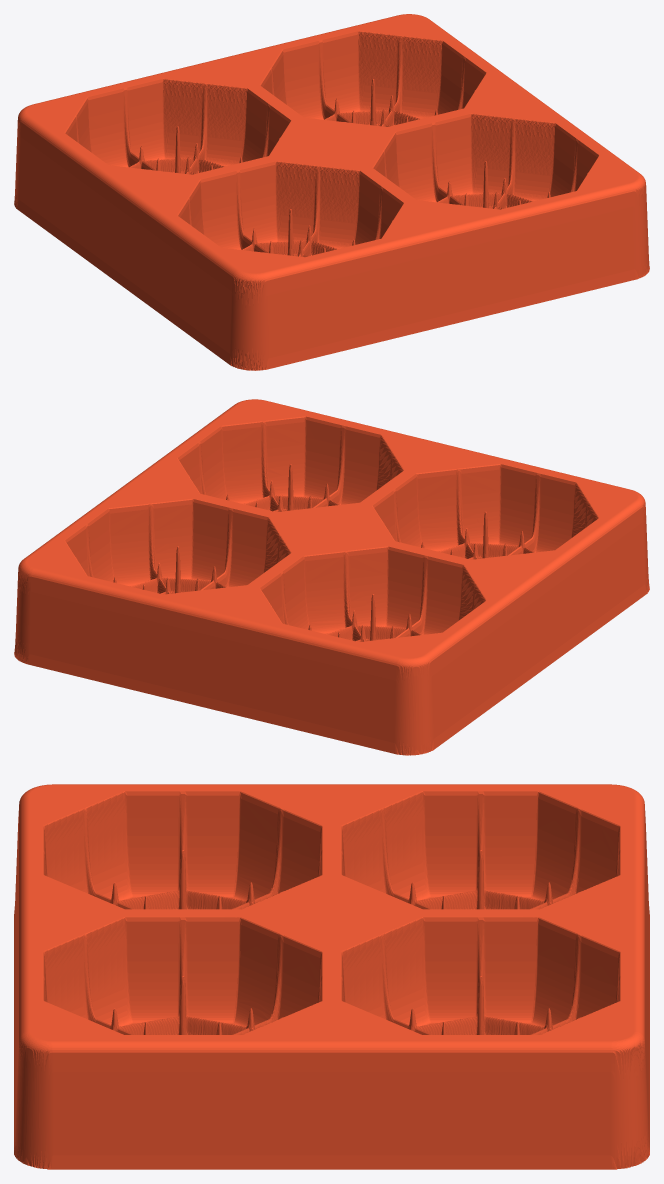
File: mold.glb
The picture shows the model from 3 angles, top to bottom: view 1: azimuth 30°, elevation 25°; view 2: azimuth 150°, elevation 25°; view 3: azimuth 270°, elevation 25°; orthographic projection. The views are drawn at different scales.
Parts seen in each view (by area): view 1: geometry_0; view 2: geometry_0; view 3: geometry_0.
Part boxes in pixels (x1,y1,x2,y2): geometry_0: (14, 14, 649, 370); geometry_0: (14, 399, 649, 755); geometry_0: (14, 784, 649, 1169).
Bounding box in the file's own units: 0.1466 × 0.031 × 0.1466.
